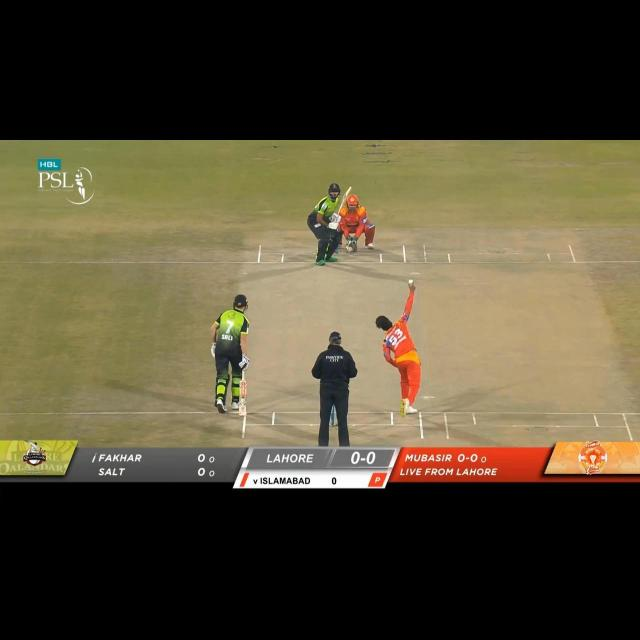bat: (337, 186, 353, 216), (239, 382, 247, 417)
toe: (239, 410, 247, 417), (346, 186, 352, 195)
